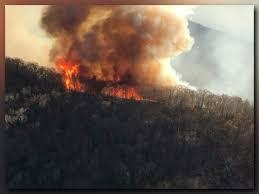fire: (55, 59, 84, 90)
